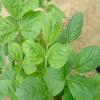Soyabean leaf: (21, 10, 47, 41), (44, 60, 65, 98), (14, 75, 47, 99), (42, 7, 62, 46), (47, 42, 74, 69), (74, 45, 99, 74), (67, 74, 96, 99), (21, 39, 46, 66), (65, 11, 83, 44), (0, 17, 19, 43), (2, 0, 23, 18), (7, 41, 23, 64)
